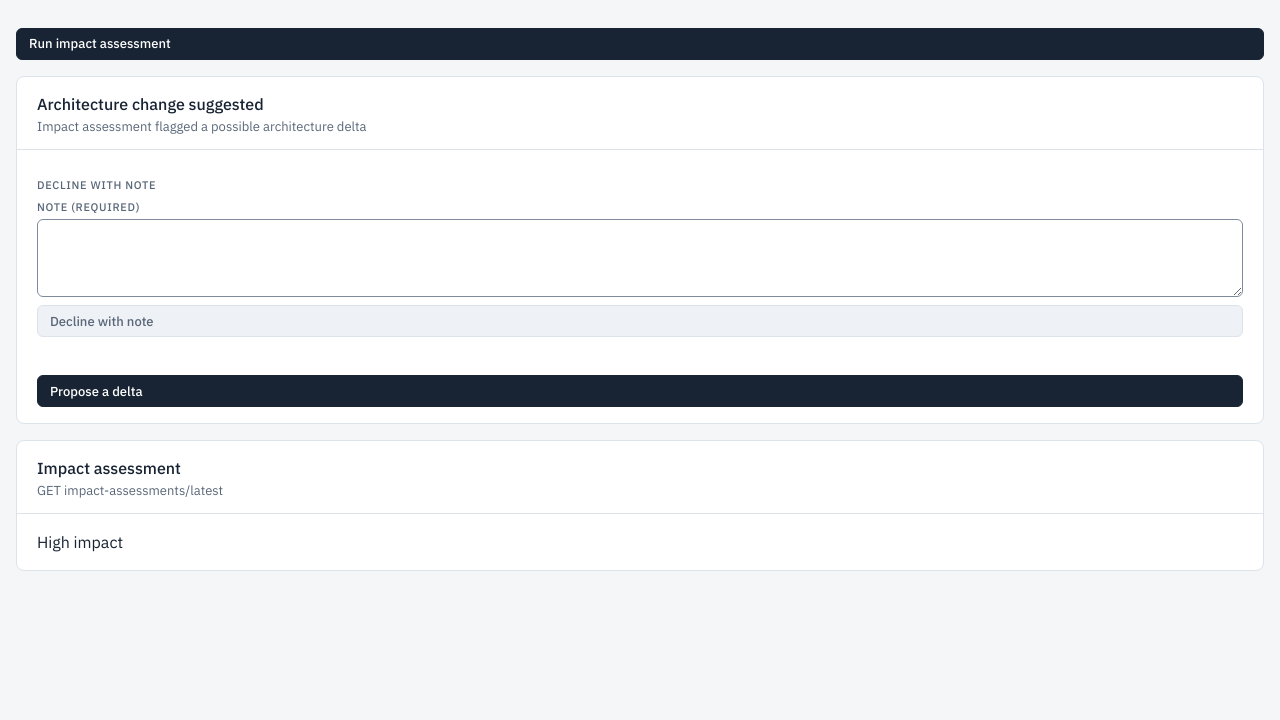
Test case: ImpactAnalysisStage › stops offering Propose once a propose task is scheduled
What coordinates should you click on to do the following:
click the button "Propose a delta"
I would click on:
 (96, 391)
Its box is 37,375 -> 1243,407.
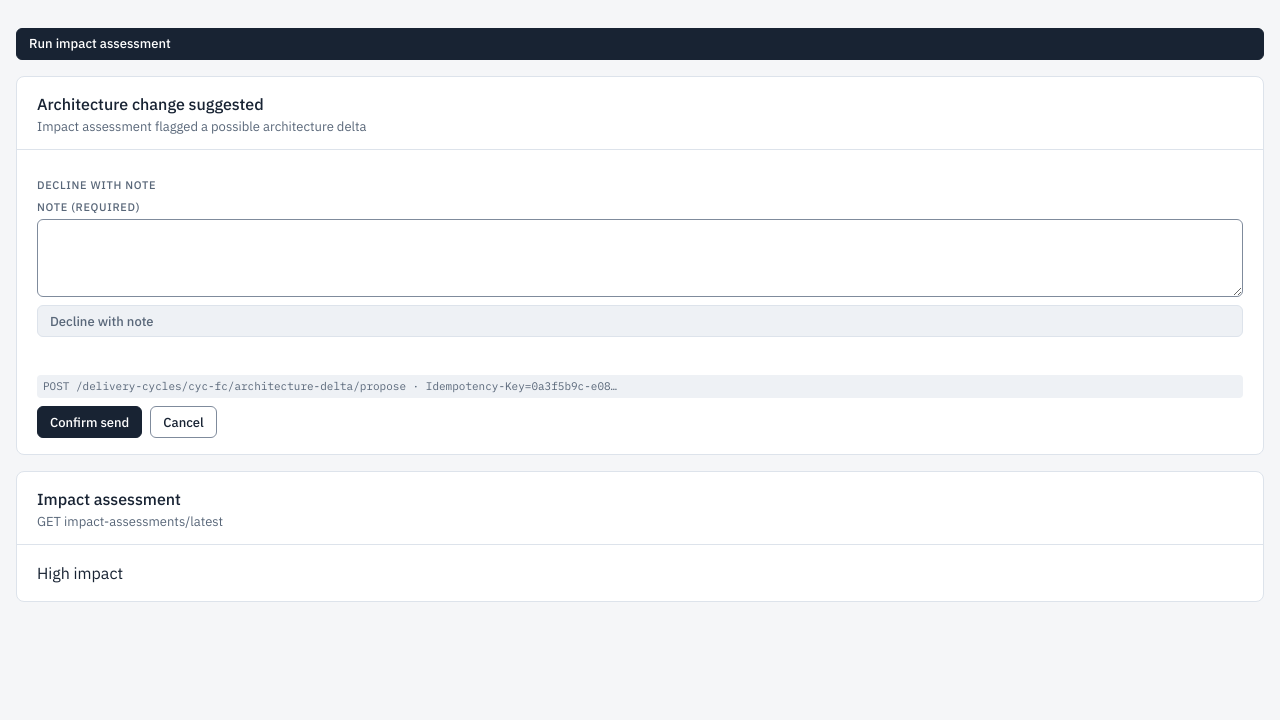
What coordinates should you click on to do the following:
click the button "Confirm send"
I would click on:
 (90, 422)
Its box is 37,406 -> 142,438.
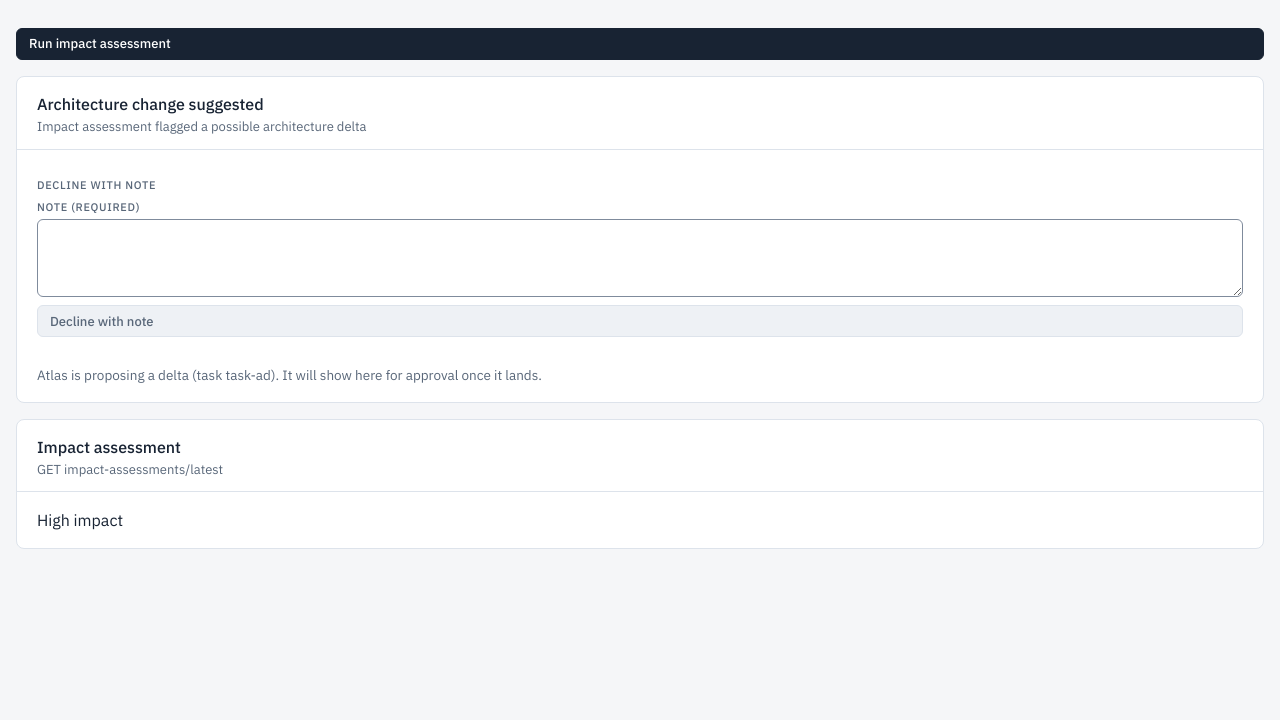
Expected: the button "Propose a delta" is not shown
Now the text "Atlas is proposing a delta (task task-ad)" is shown, box 37,366 -> 542,384
